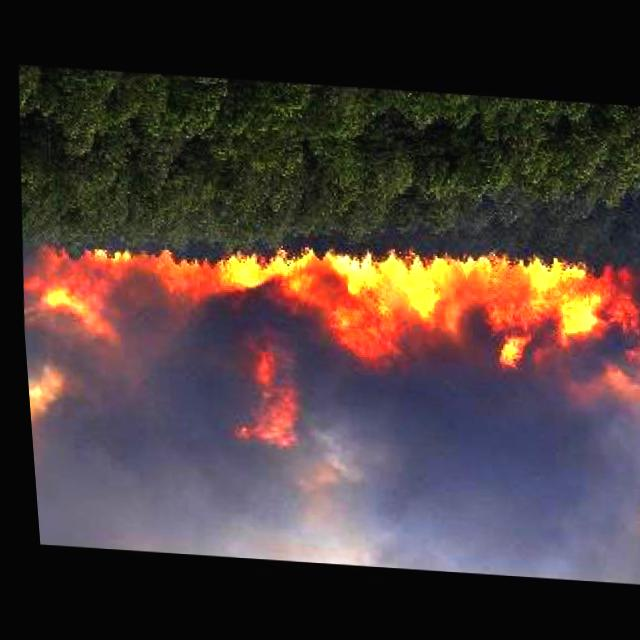Fire: (131, 229, 640, 387), (26, 240, 128, 352)
Smoke: (21, 363, 640, 585)
